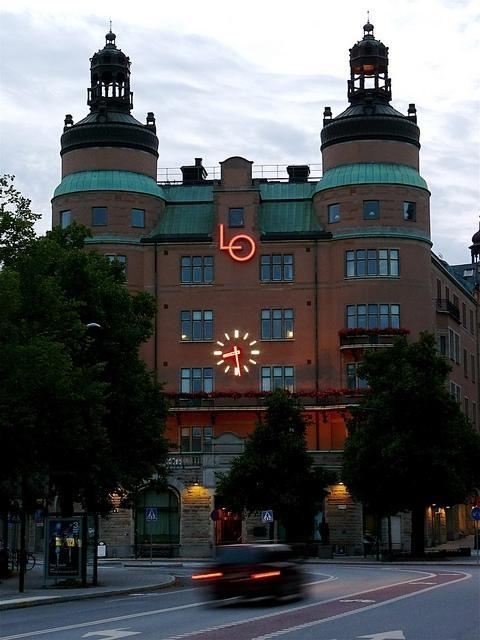bicycle: (8, 546, 36, 570)
car: (194, 542, 313, 614)
